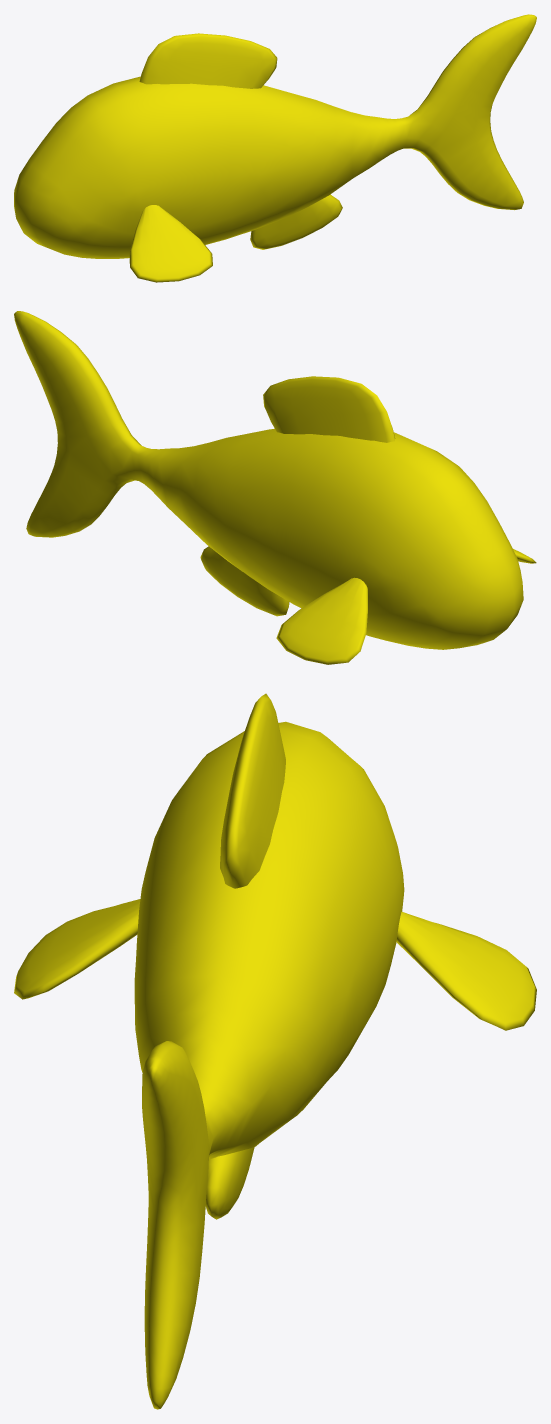
File: poisson3.glb
3 views of the same model, one above another, from view 1: azimuth 30°, elevation 25°; view 2: azimuth 150°, elevation 25°; view 3: azimuth 270°, elevation 25° (orthographic). The views are drawn at different scales.
Parts seen in each view (by area): view 1: mesh_id27; view 2: mesh_id27; view 3: mesh_id27.
Boxes of the visible parts, left/top/right/bottom form: mesh_id27: left=14, top=14, right=536, bottom=282; mesh_id27: left=14, top=311, right=536, bottom=664; mesh_id27: left=14, top=693, right=536, bottom=1409.
Size of the model in its own units: 0.4339 by 0.1993 by 0.2215.
1 material, 1 textured.
